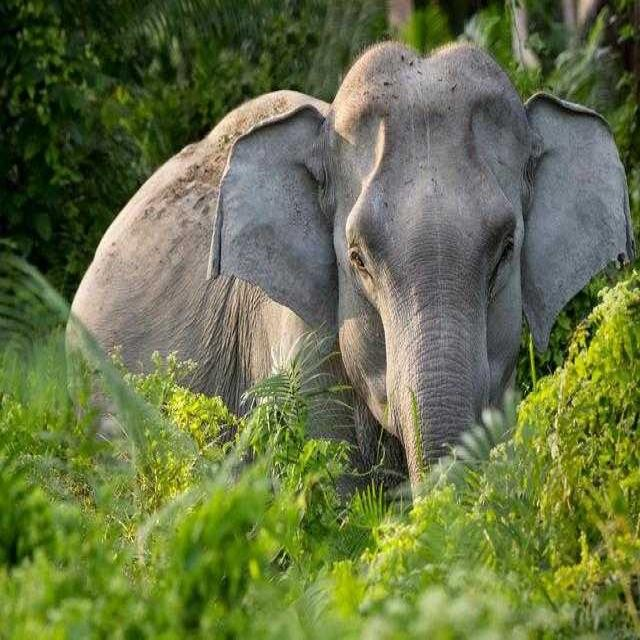Elephant: (63, 34, 635, 520)
